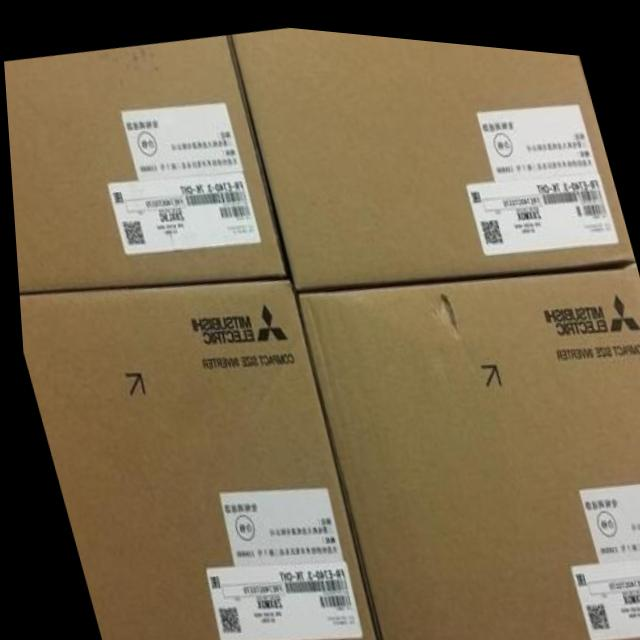box: (296, 251, 640, 640), (15, 273, 369, 640), (232, 23, 632, 284), (3, 30, 283, 290)
